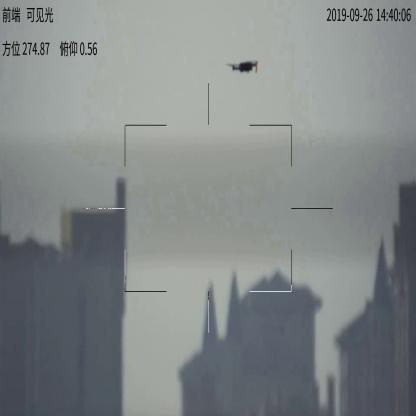uav: (225, 59, 261, 75)
